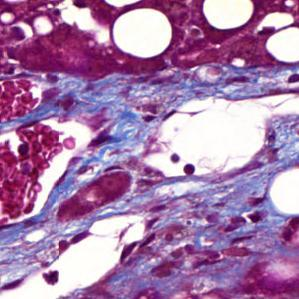steatosis: (113, 7, 171, 58), (203, 0, 255, 31)
